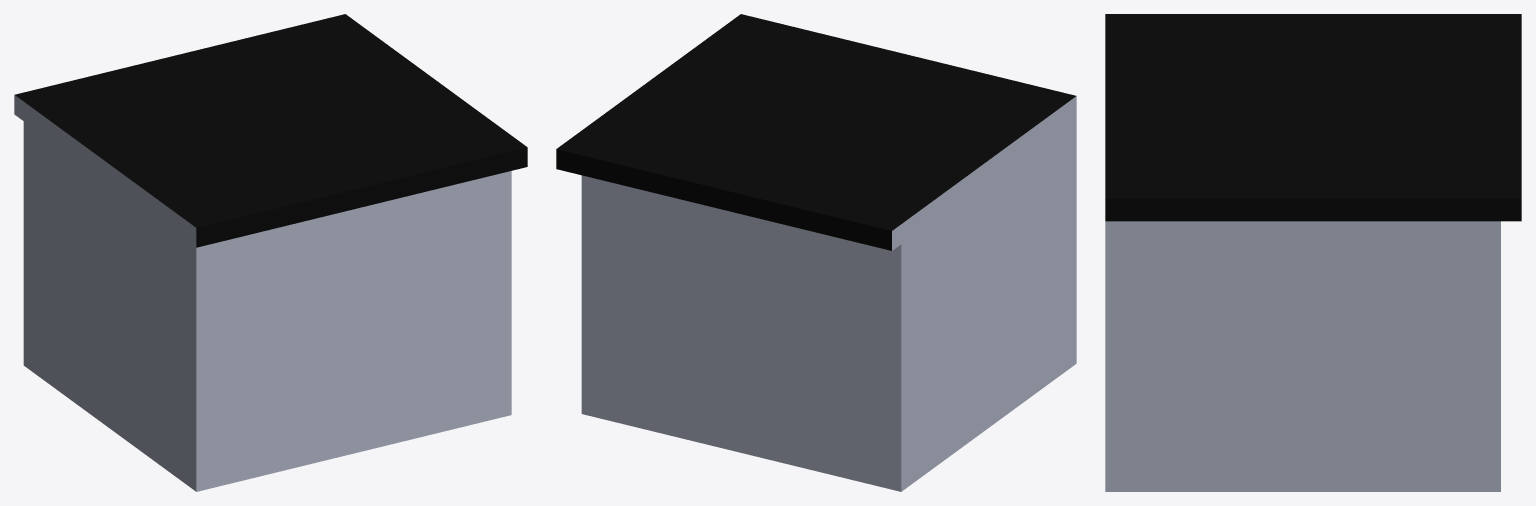
File: Def comp.fbx
The picture shows the model from 3 angles, left to right: view 1: azimuth 30°, elevation 25°; view 2: azimuth 150°, elevation 25°; view 3: azimuth 270°, elevation 25°; orthographic projection. The views are drawn at different scales.
Parts seen in each view (by area): view 1: Cube.004; view 2: Cube.004; view 3: Cube.004.
Boxes of the visible parts, <box> form: Cube.004: <box>14,14,527,491</box>; Cube.004: <box>556,14,1076,491</box>; Cube.004: <box>1105,14,1521,491</box>.
Size of the model in its own units: 210 by 160 by 200.
